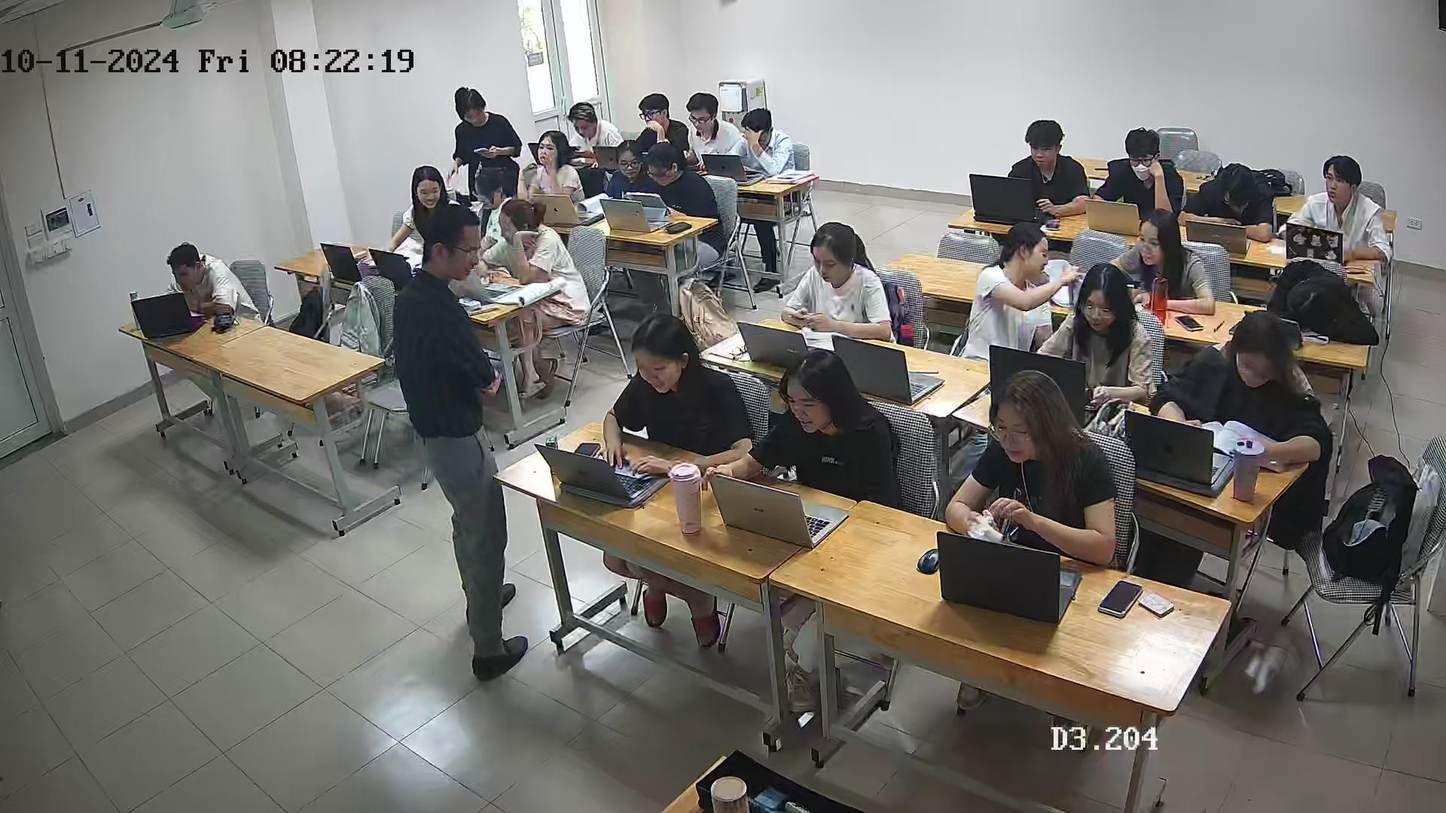Bend Over The Desk: (1271, 254, 1371, 335)
Look Around: (991, 222, 1060, 314)
Stand Up: (398, 211, 541, 682), (446, 83, 516, 196)
phone: (789, 300, 822, 328), (475, 142, 498, 164)
